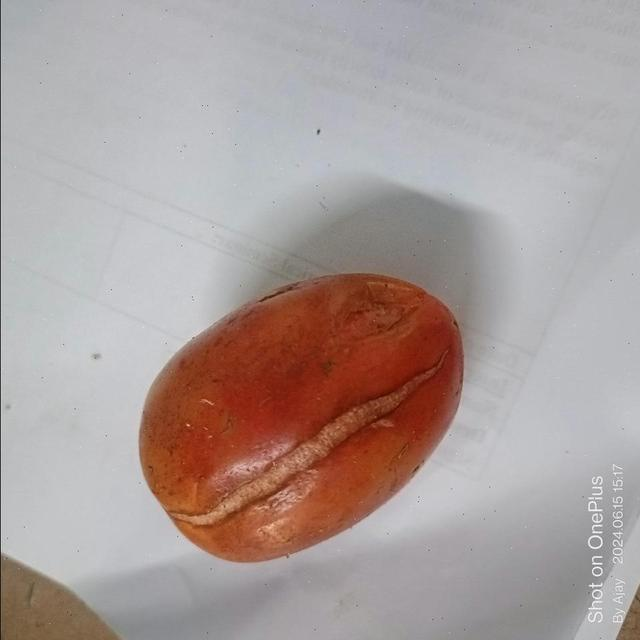Cracking Fruit: (78, 179, 308, 481)
